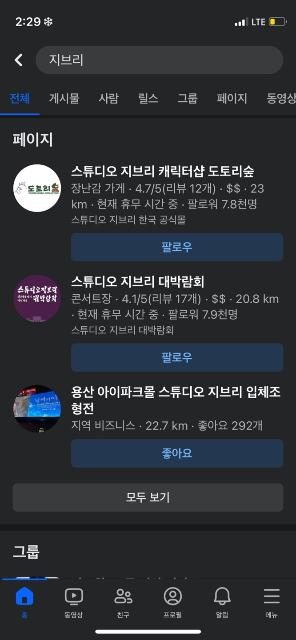Bottom_Navigation: (1, 579, 296, 639)
EditText: (35, 45, 285, 73)
Icon: (64, 588, 84, 606), (163, 587, 182, 605), (16, 586, 34, 604), (115, 589, 133, 605), (214, 588, 230, 606), (264, 587, 280, 605), (14, 52, 24, 66)
Image: (14, 274, 62, 322), (14, 164, 60, 213), (13, 386, 61, 432)
List: (2, 155, 296, 478)
Multi_Tab: (0, 85, 296, 115)
Text: (72, 276, 280, 336), (72, 166, 264, 224), (72, 386, 280, 432), (13, 132, 53, 146), (126, 492, 170, 502), (13, 544, 39, 560), (50, 54, 84, 66), (49, 93, 79, 105), (217, 92, 247, 104), (162, 352, 192, 364), (268, 92, 296, 104), (163, 448, 192, 459), (163, 243, 192, 253), (138, 92, 158, 106), (100, 92, 119, 104), (179, 93, 198, 105), (11, 92, 29, 104), (65, 612, 83, 618), (164, 612, 182, 618), (216, 611, 228, 619), (117, 612, 129, 618), (265, 612, 277, 618), (22, 610, 28, 618)
TextButton: (12, 484, 284, 512), (72, 232, 284, 262), (71, 439, 284, 468), (71, 343, 284, 371)
TextImageButton: (163, 586, 182, 618), (64, 588, 84, 618), (114, 588, 134, 618), (16, 588, 34, 618), (263, 588, 281, 618), (215, 588, 231, 618)
UpperTaskBar: (0, 0, 296, 38)
